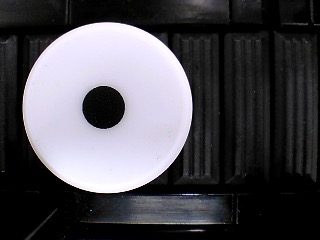BOHO: (21, 21, 194, 194)
